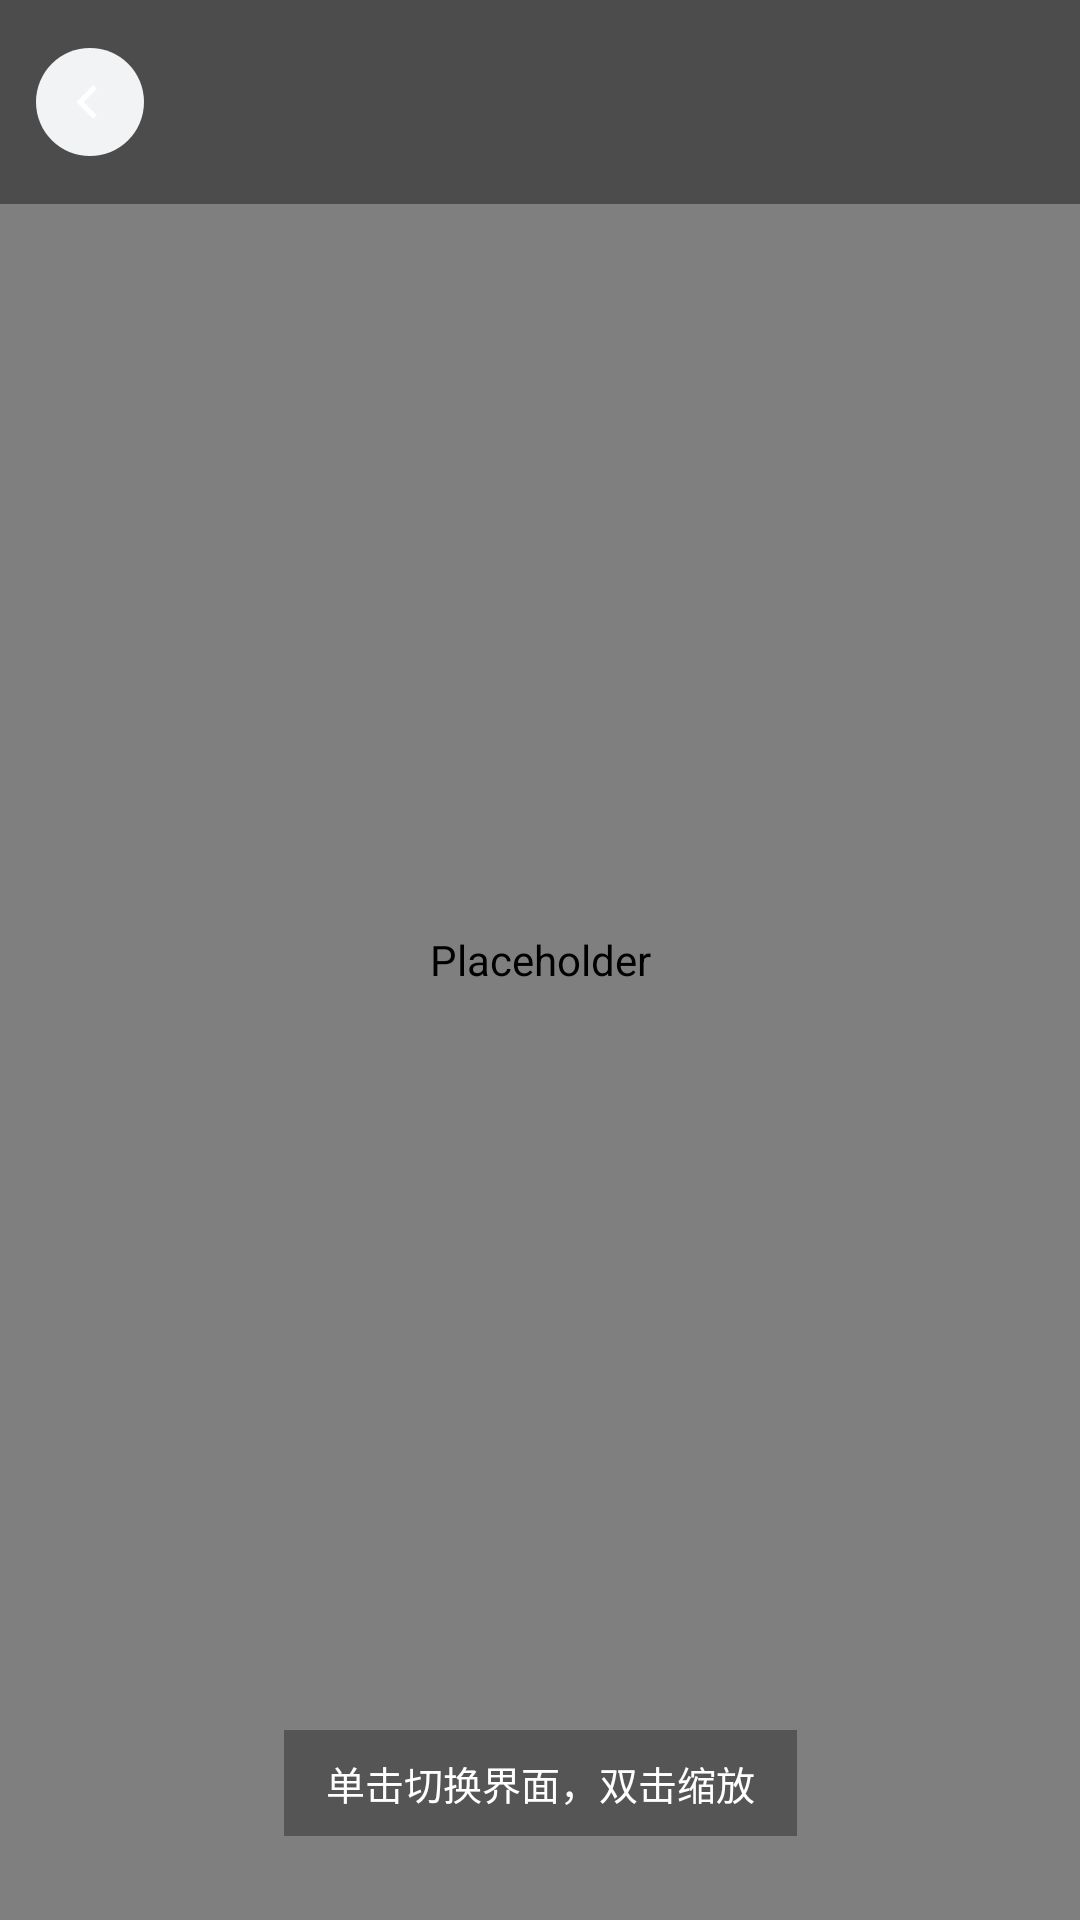

Where icons sit on this 1080px×1920px app screen, as (x1, y1, x2, y2):
返回: (36, 48, 144, 156)
